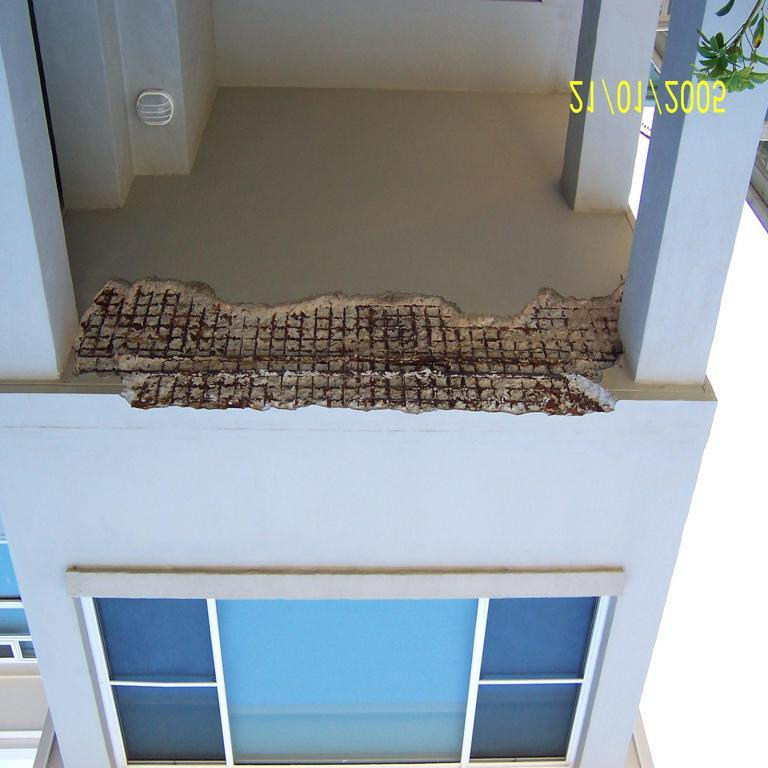damage: (72, 272, 624, 418)
